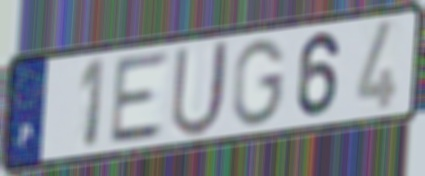1: (76, 54, 107, 153)
4: (354, 15, 403, 116)
6: (296, 29, 344, 121)
E: (107, 48, 172, 149)
G: (231, 36, 289, 130)
U: (168, 36, 233, 140)
